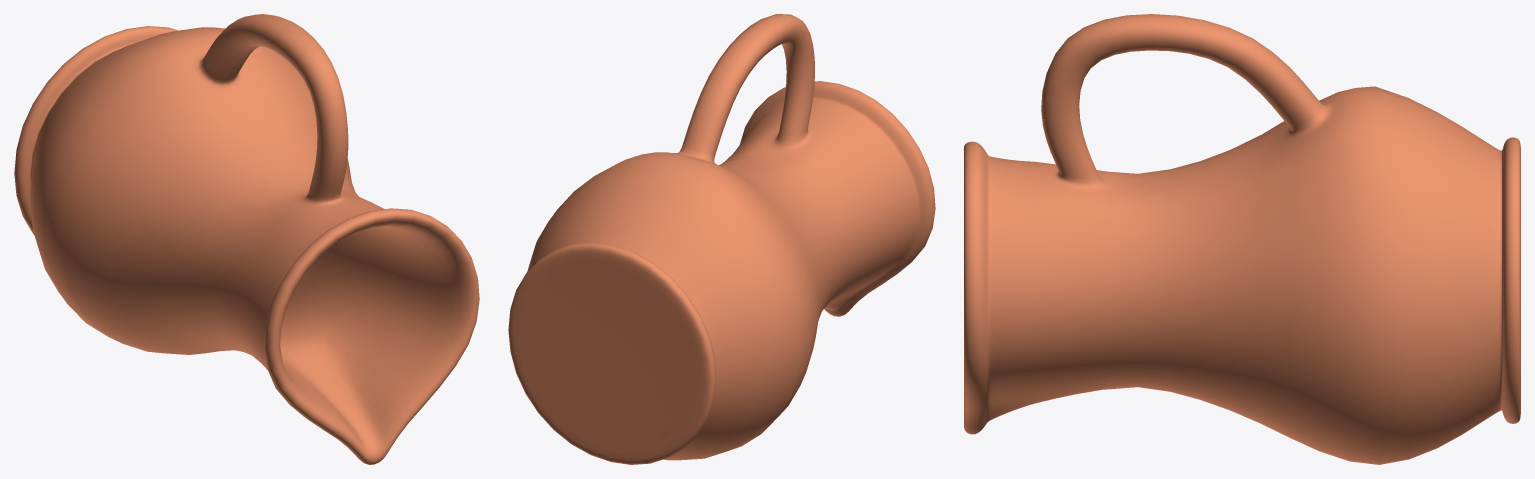
3 views of the same model, side by side, from view 1: azimuth 30°, elevation 25°; view 2: azimuth 150°, elevation 25°; view 3: azimuth 270°, elevation 25° (orthographic). The views are drawn at different scales.
Bounding box in the file's own units: 0.6614 × 0.8536 × 1.
